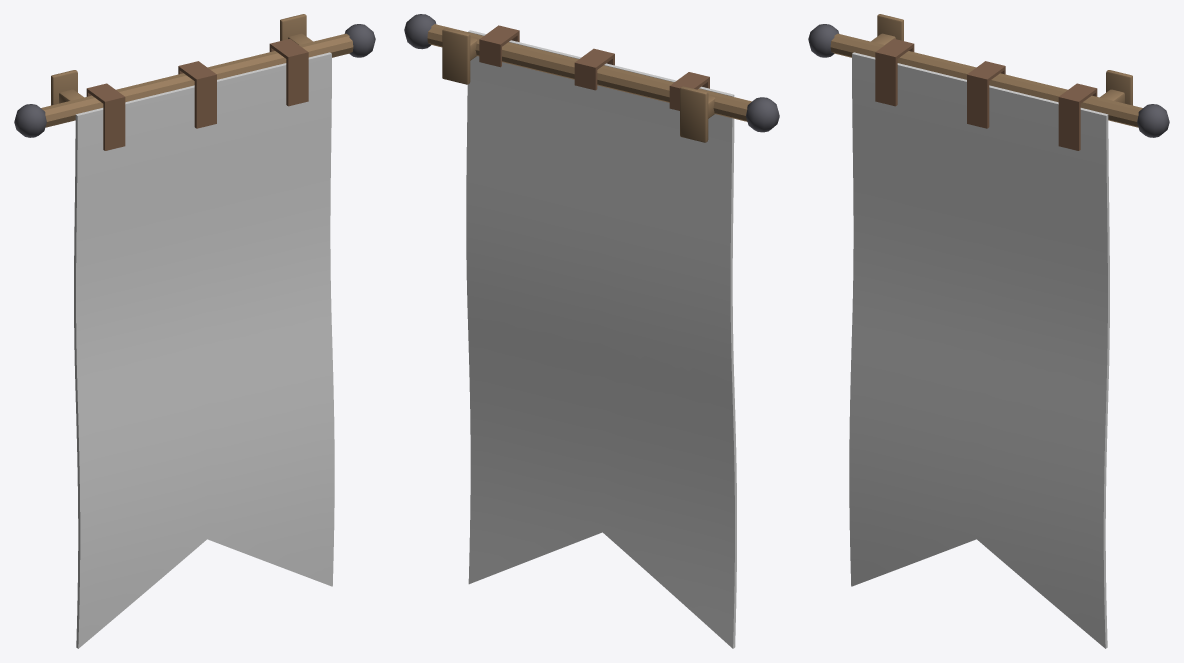
Rendered from banner_hanging.glb.
3 renders of one model, left to right at view 1: azimuth 30°, elevation 25°; view 2: azimuth 150°, elevation 25°; view 3: azimuth 330°, elevation 25°, orthographic. The views are drawn at different scales.
Visible parts, largest first — view 1: banner_hanging; view 2: banner_hanging; view 3: banner_hanging.
Boxes of the visible parts, <box> form: banner_hanging: <box>14,14,375,648</box>; banner_hanging: <box>404,14,779,648</box>; banner_hanging: <box>808,14,1169,648</box>.
Bounding box in the file's own units: 1.4 × 2.08 × 0.205.
